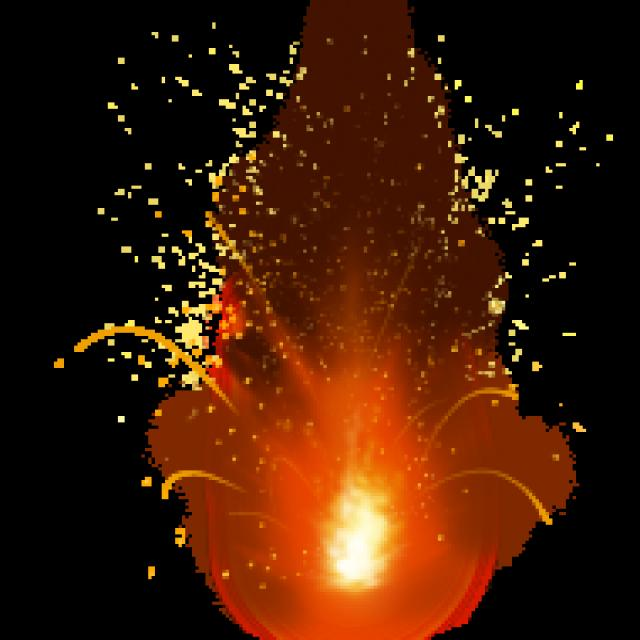fire: (152, 7, 560, 620)
